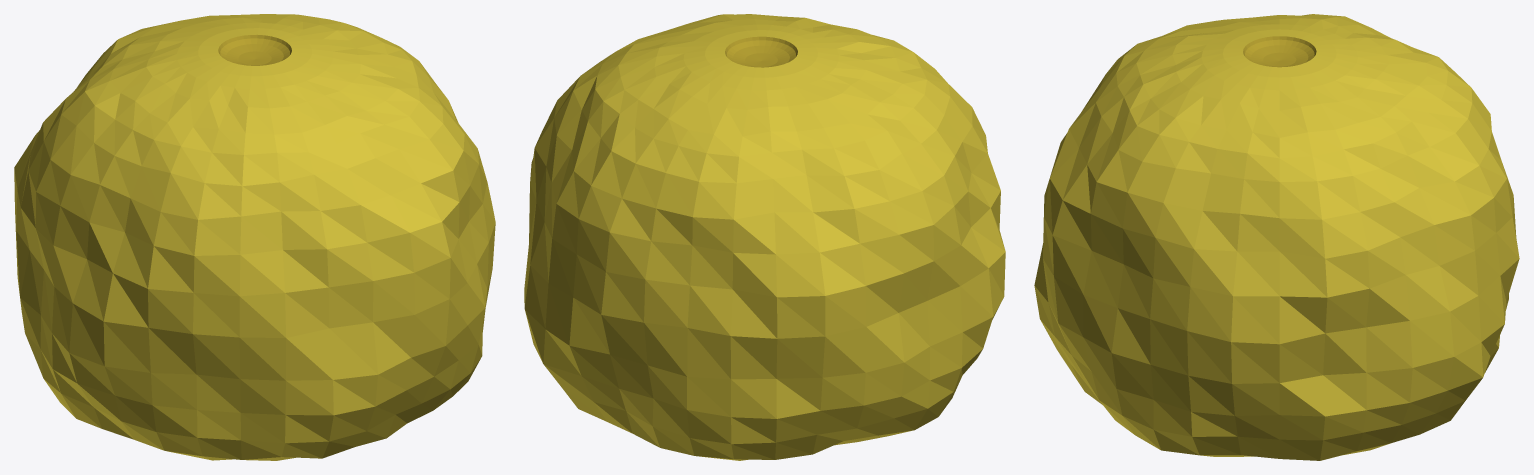
Rendered from yuzu.glb.
3 renders of one model, left to right at view 1: azimuth 30°, elevation 25°; view 2: azimuth 150°, elevation 25°; view 3: azimuth 270°, elevation 25°, orthographic.
Size of the model in its own units: 1.27 by 1.03 by 1.27.
